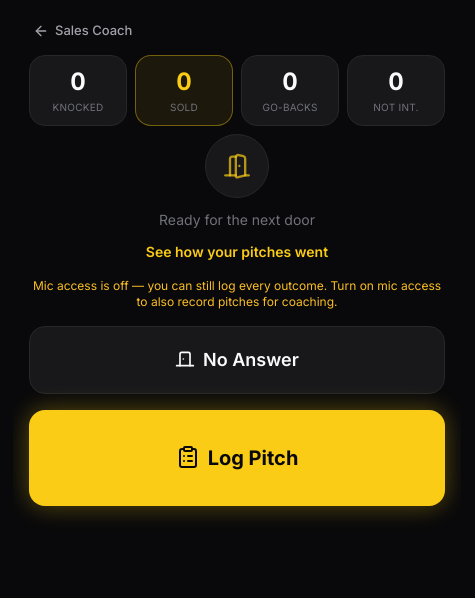
it: DoorLog — mic-denied still lets the rep log a pitch (no fake recording) › mic denied → offers Log Pitch (not Record), logs an outcome as a knock, never enters a recording screen
Expected: the text "you can still log every outcome" is shown, [33, 278, 441, 308]
// Log Pitch → straight to the outcome screen. The fake RECORDING screen (its Stop control) is NEVER shown.
Click the button "Log Pitch" at (237, 458), box [29, 410, 445, 506]
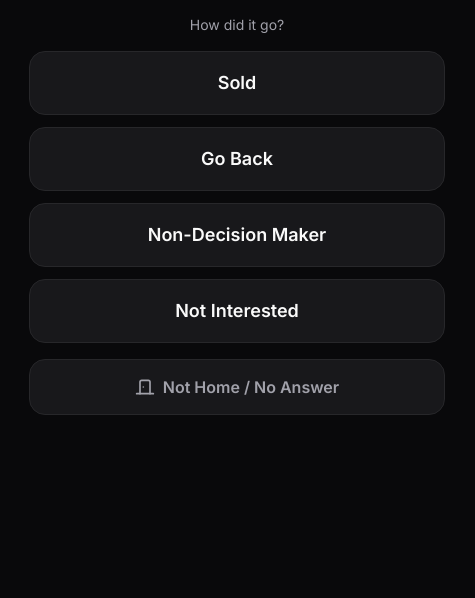
Result: the text "How did it go?" is shown at [190, 16, 284, 33]
// Pick an outcome → logged as a knock, back to IDLE. No naming step (nothing was recorded to name).
Click the button "Sold" at (237, 83), box [29, 51, 445, 115]
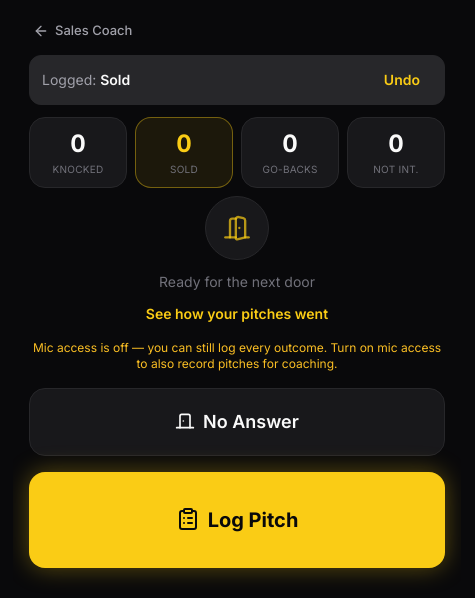
Result: the button "Log Pitch" is shown at [29, 472, 445, 568]
